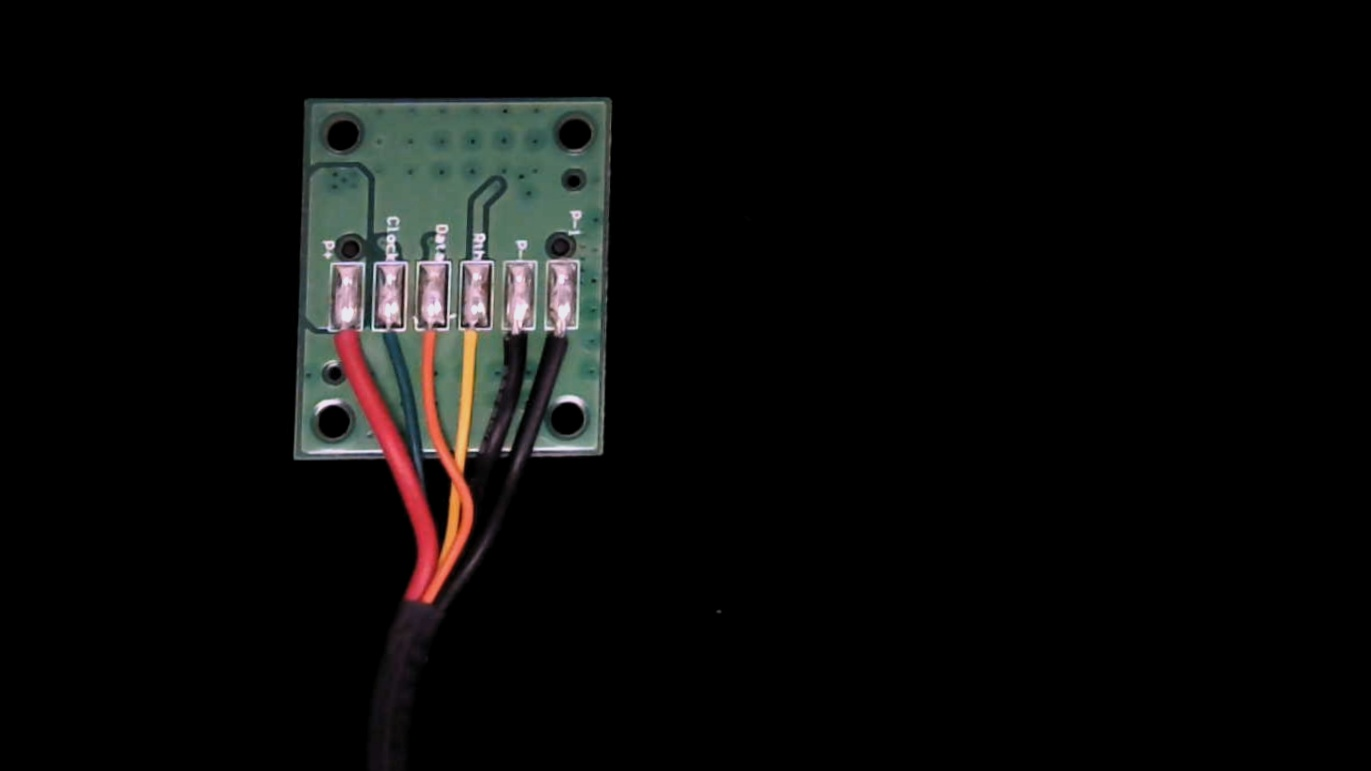Black: (496, 314, 535, 390)
Black1: (540, 313, 579, 384)
Green: (370, 315, 409, 377)
Orange: (411, 313, 449, 379)
Red: (326, 313, 366, 382)
Yellow: (453, 313, 491, 385)
